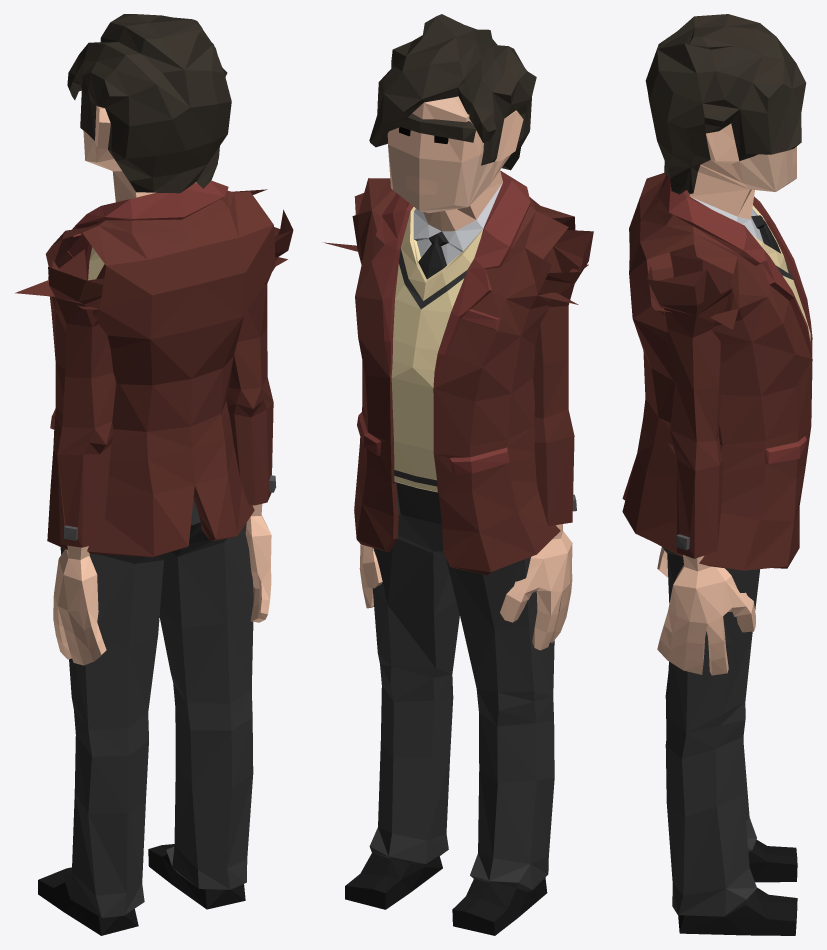
File: Demon_SchoolBoy_01_stand.obj
3 renders of one model, left to right at view 1: azimuth 30°, elevation 25°; view 2: azimuth 150°, elevation 25°; view 3: azimuth 270°, elevation 25°, orthographic. The views are drawn at different scales.
Visible parts, largest first — view 1: Demon_SchoolBoy_01_stand; view 2: Demon_SchoolBoy_01_stand; view 3: Demon_SchoolBoy_01_stand.
Boxes of the visible parts, bbox=[...] form: Demon_SchoolBoy_01_stand: bbox=[15, 14, 293, 935]; Demon_SchoolBoy_01_stand: bbox=[322, 14, 593, 935]; Demon_SchoolBoy_01_stand: bbox=[622, 14, 812, 935].
Size of the model in its own units: 0.5758 by 1.84 by 0.3616.
Materials: 1 (1 with a texture image).
